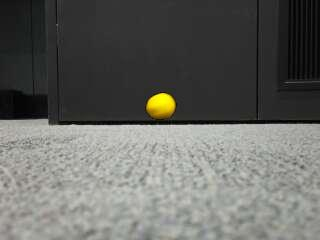lemon: (146, 94, 175, 119)
